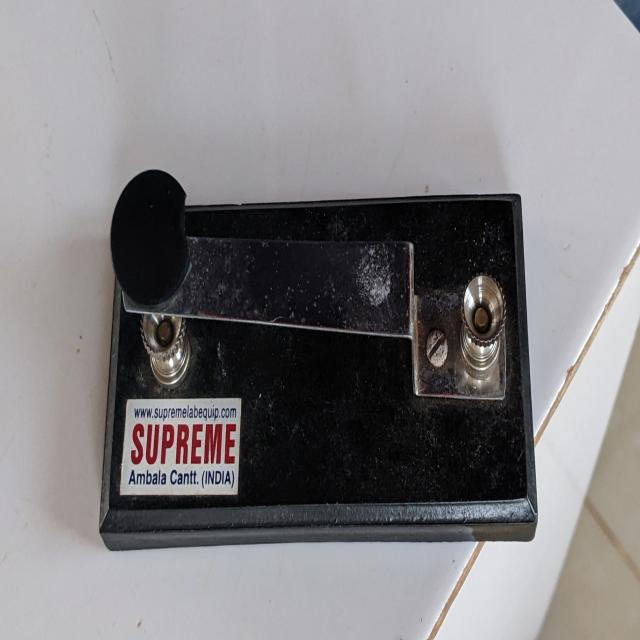Press Key: (93, 168, 551, 576)
